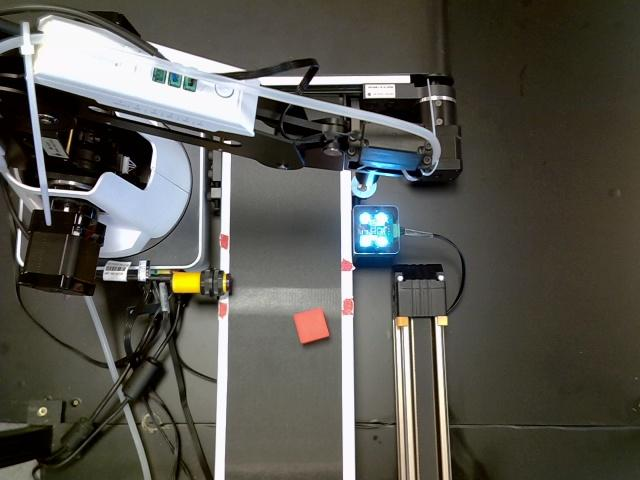cube: (295, 305, 329, 345)
